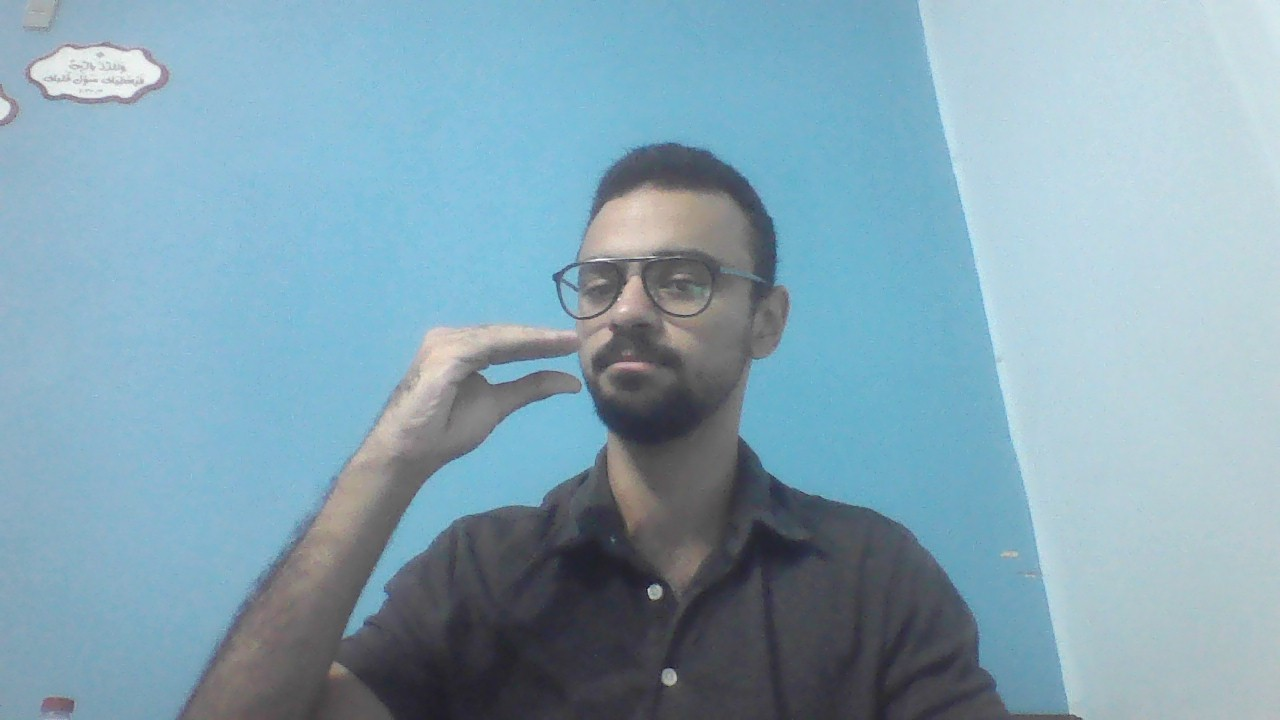eat: (380, 322, 584, 463)
